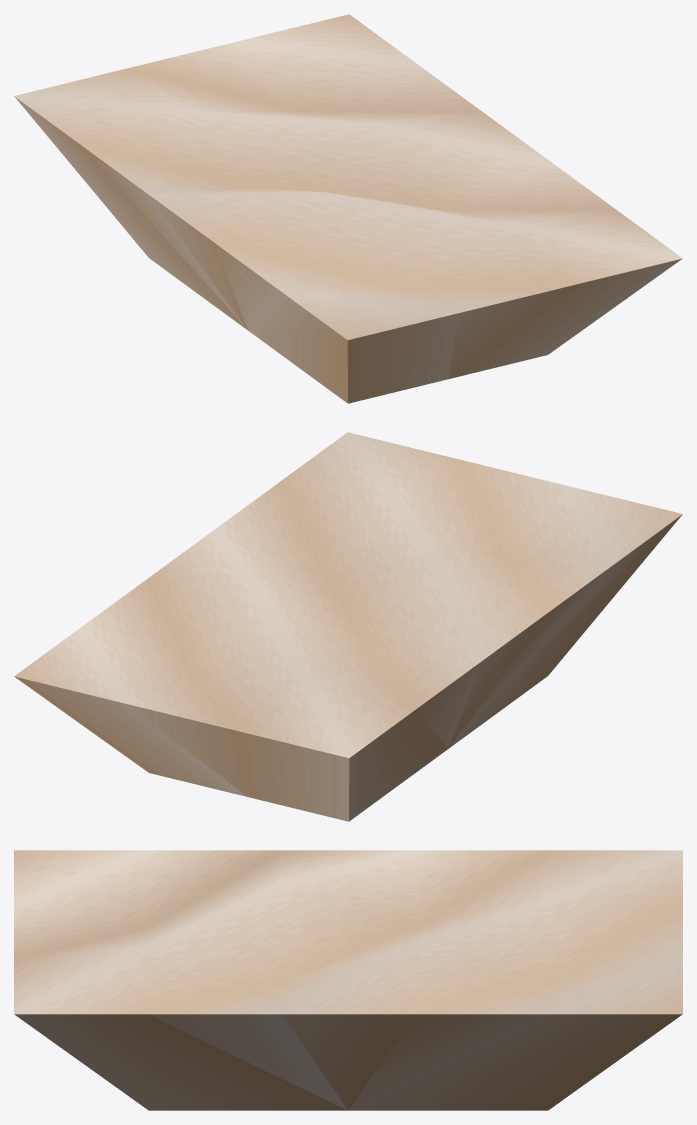
File: icecream_container_icecream_vanilla.gltf
The picture shows the model from 3 angles, top to bottom: view 1: azimuth 30°, elevation 25°; view 2: azimuth 150°, elevation 25°; view 3: azimuth 270°, elevation 25°; orthographic projection.
Parts seen in each view (by area): view 1: icecream_container_icecream_vanilla; view 2: icecream_container_icecream_vanilla; view 3: icecream_container_icecream_vanilla.
Part boxes in pixels (bbox=[...]): icecream_container_icecream_vanilla: bbox=[14, 14, 682, 403]; icecream_container_icecream_vanilla: bbox=[14, 432, 682, 821]; icecream_container_icecream_vanilla: bbox=[14, 850, 682, 1110].
Bounding box in the file's own units: 0.8144 × 0.3534 × 1.4.
1 material, 1 textured.
